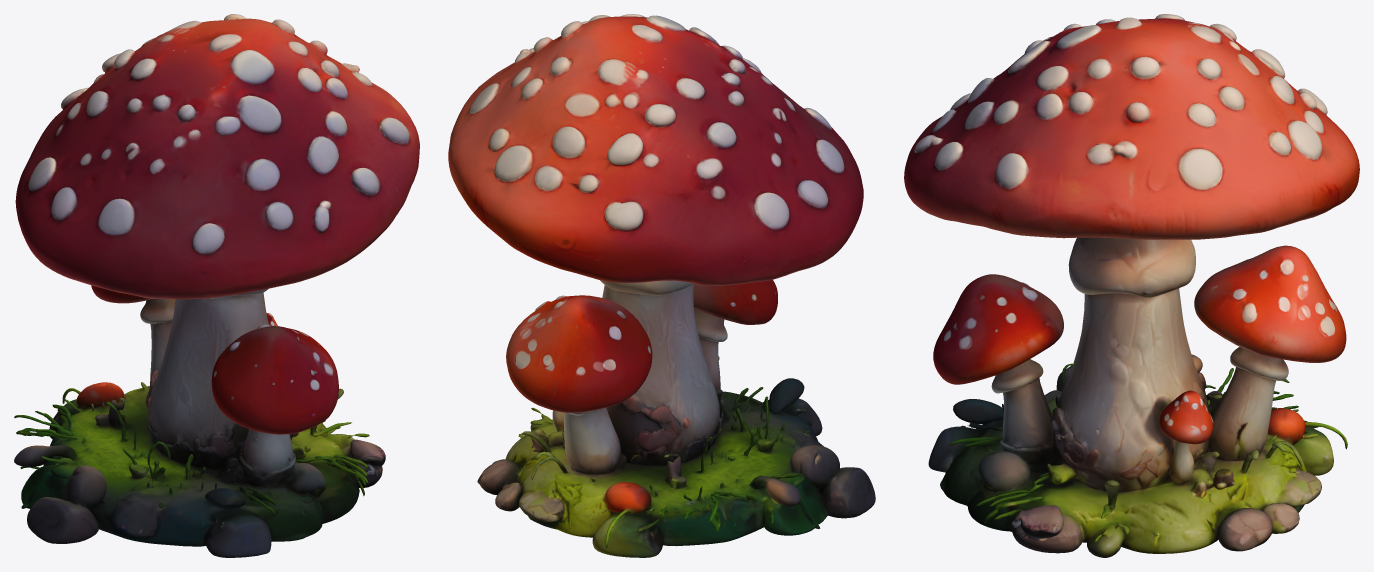
The model's file is nature-mushroom-giant.glb.
3 renders of one model, left to right at view 1: azimuth 30°, elevation 25°; view 2: azimuth 150°, elevation 25°; view 3: azimuth 270°, elevation 25°, orthographic. The views are drawn at different scales.
Parts seen in each view (by area): view 1: tripo_node_16ea0de0-b6a8-4e84-aeaf-ad0b180ead08; view 2: tripo_node_16ea0de0-b6a8-4e84-aeaf-ad0b180ead08; view 3: tripo_node_16ea0de0-b6a8-4e84-aeaf-ad0b180ead08.
Boxes of the visible parts, x1=… form: tripo_node_16ea0de0-b6a8-4e84-aeaf-ad0b180ead08: x1=14, y1=14, x2=419, y2=557; tripo_node_16ea0de0-b6a8-4e84-aeaf-ad0b180ead08: x1=448, y1=14, x2=875, y2=557; tripo_node_16ea0de0-b6a8-4e84-aeaf-ad0b180ead08: x1=904, y1=14, x2=1359, y2=557.
Size of the model in its own units: 4.4 by 5 by 4.3.
1 material, 1 textured.
